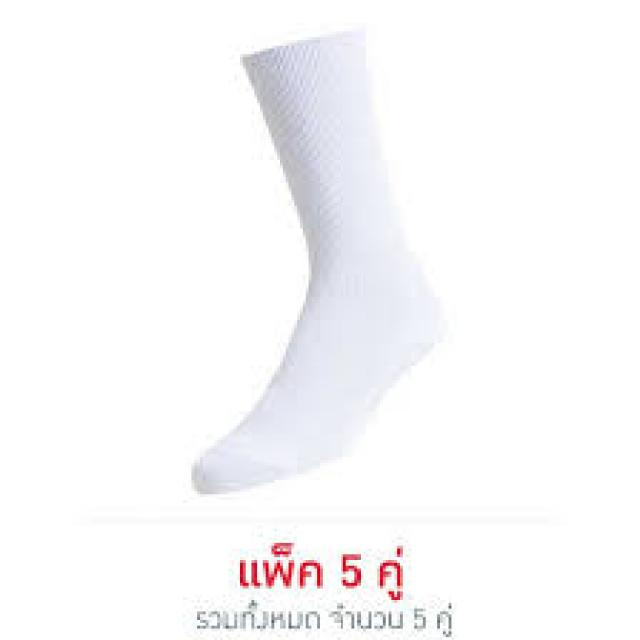sock: (188, 23, 443, 494)
